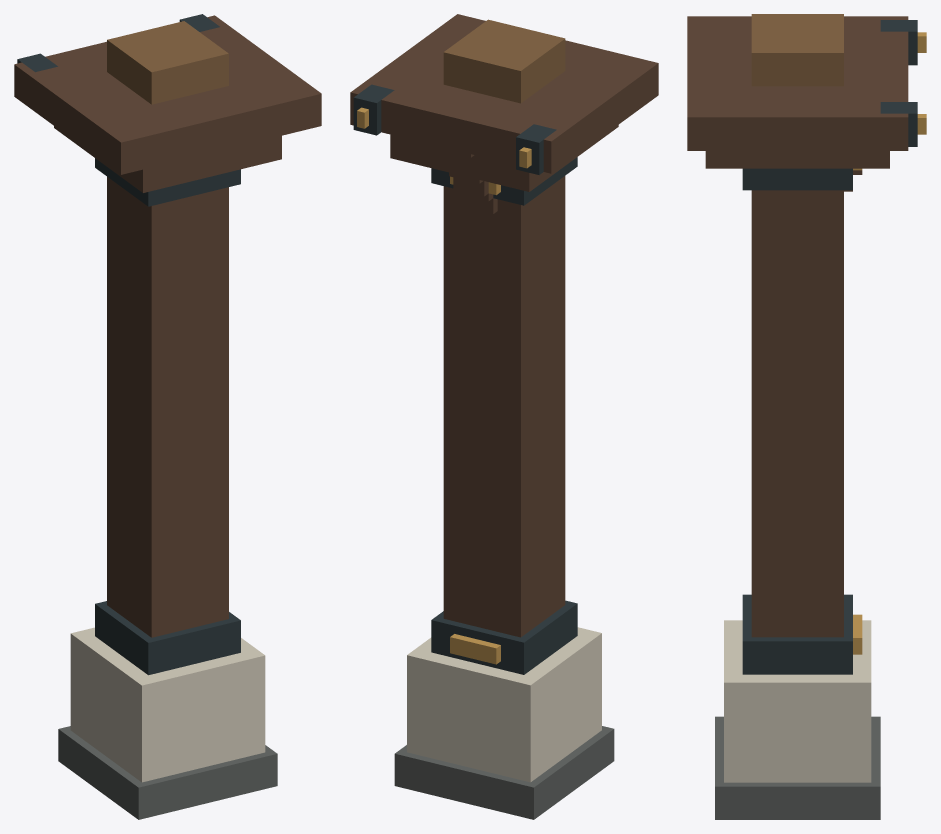
The picture shows the model from 3 angles, left to right: view 1: azimuth 30°, elevation 25°; view 2: azimuth 150°, elevation 25°; view 3: azimuth 270°, elevation 25°; orthographic projection. The views are drawn at different scales.
Visible parts, largest first — view 1: 旧商肆店檐立柱; view 2: 旧商肆店檐立柱; view 3: 旧商肆店檐立柱.
Boxes of the visible parts, bbox=[...] form: 旧商肆店檐立柱: bbox=[14, 14, 321, 819]; 旧商肆店檐立柱: bbox=[350, 14, 658, 819]; 旧商肆店檐立柱: bbox=[687, 14, 926, 819].
Size of the model in its own units: 1.04 by 3.6 by 1.04.
Materials: 6 (6 with a texture image).
